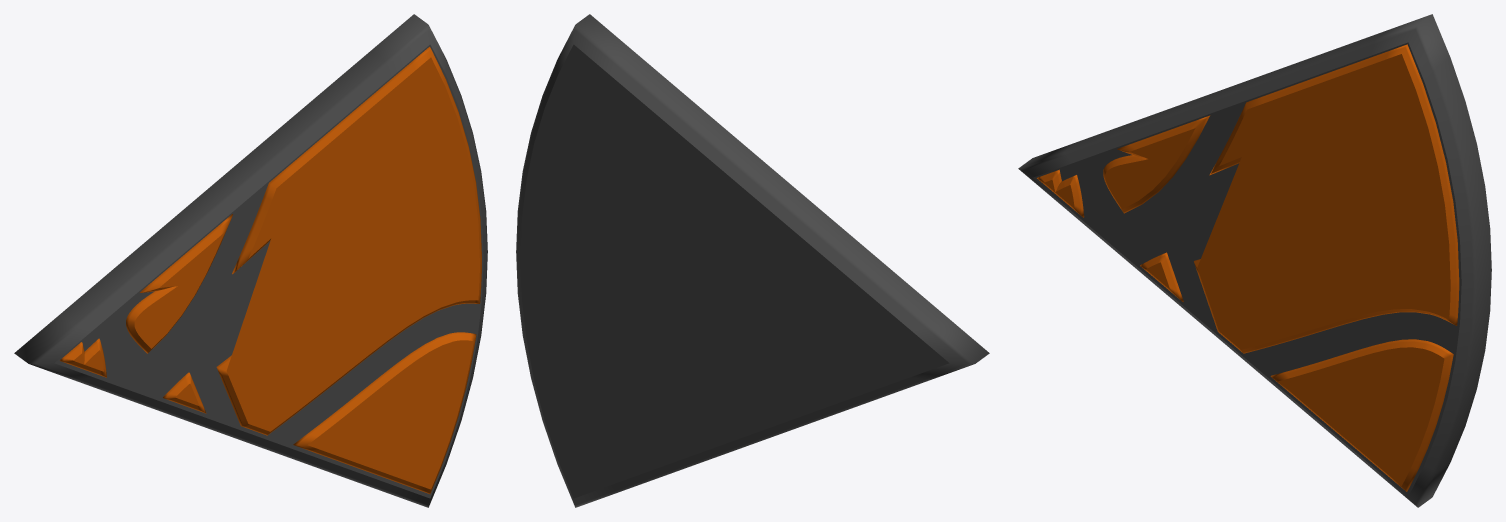
The model's file is stele_piece_02.fbx.
The picture shows the model from 3 angles, left to right: view 1: azimuth 30°, elevation 25°; view 2: azimuth 150°, elevation 25°; view 3: azimuth 330°, elevation 25°; orthographic projection.
Parts seen in each view (by area): view 1: polySurface29, polySurface31, polySurface28, polySurface27, polySurface8, polySurface24; view 2: polySurface31; view 3: polySurface29, polySurface31, polySurface28, polySurface27, polySurface8, polySurface24.
Boxes of the visible parts, x1,y1,x2,y2 form: polySurface29: [216, 47, 481, 435]; polySurface31: [14, 14, 487, 507]; polySurface28: [293, 332, 476, 493]; polySurface27: [126, 214, 232, 353]; polySurface8: [60, 338, 106, 377]; polySurface24: [163, 372, 206, 413]; polySurface31: [516, 14, 989, 507]; polySurface29: [1194, 44, 1459, 353]; polySurface31: [1018, 14, 1491, 507]; polySurface28: [1270, 339, 1453, 491]; polySurface27: [1103, 115, 1210, 213]; polySurface8: [1037, 169, 1084, 217]; polySurface24: [1140, 252, 1183, 301].
Bounding box in the file's own units: 4.59 × 4.61 × 0.5135.
